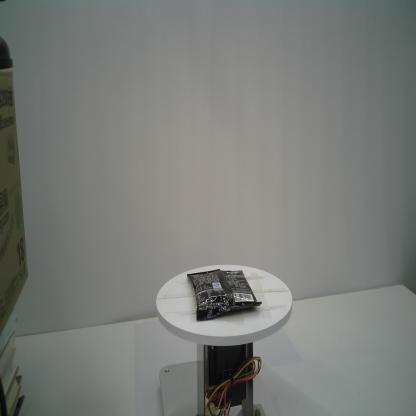Instant Drink: (186, 268, 262, 322)
